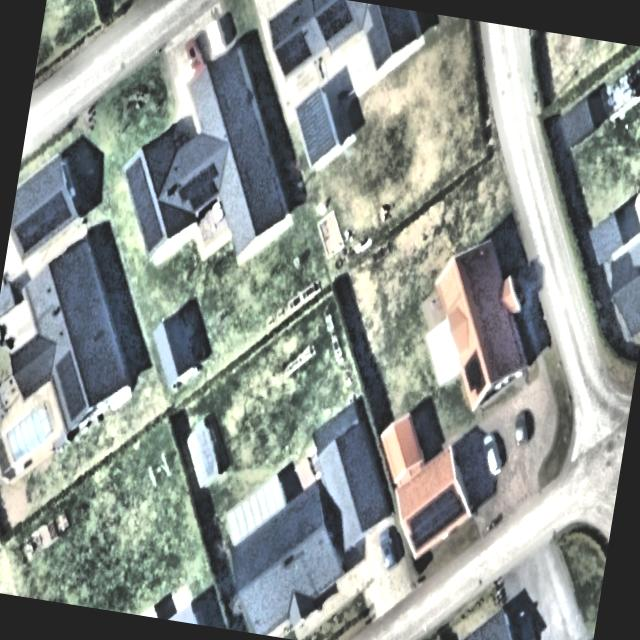roof_pv: (46, 349, 94, 424), (176, 155, 224, 214), (431, 481, 472, 548), (269, 27, 317, 83), (400, 490, 438, 560), (40, 186, 76, 253), (10, 194, 47, 257), (312, 0, 357, 49), (456, 346, 492, 406)
